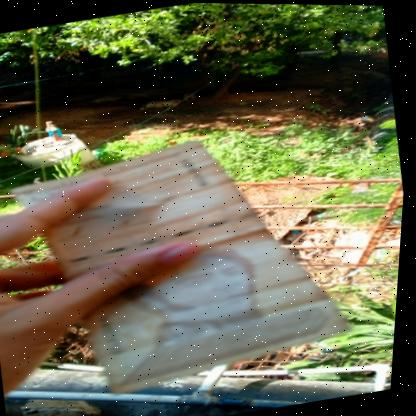five-front-vef: (0, 115, 369, 411)
